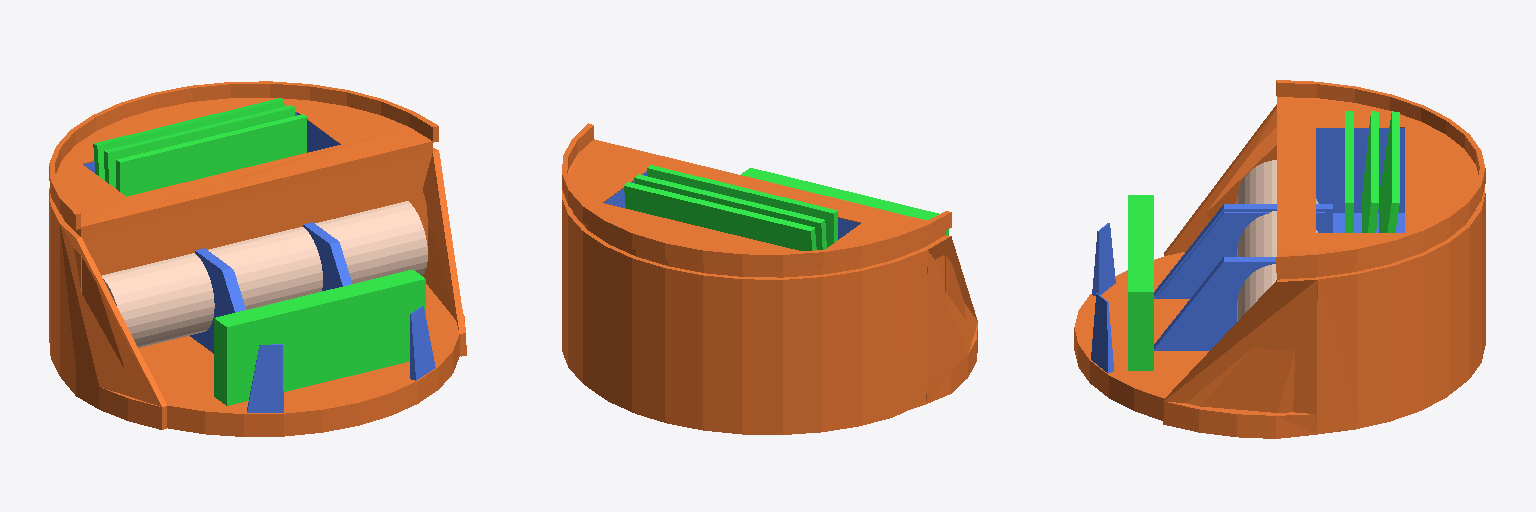
File: moneymachine_5.obj
3 views of the same model, side by side, from view 1: azimuth 30°, elevation 25°; view 2: azimuth 150°, elevation 25°; view 3: azimuth 270°, elevation 25° (orthographic).
Visible parts, largest first — view 1: Cylinder.019_Material.016, Cylinder.019_Material.002, Cylinder.019_Material.015, Cylinder.019_Material.001; view 2: Cylinder.019_Material.016, Cylinder.019_Material.002; view 3: Cylinder.019_Material.016, Cylinder.019_Material.001, Cylinder.019_Material.002, Cylinder.019_Material.015.
Part boxes in pixels (left/top/right/bottom): Cylinder.019_Material.016: left=49, top=81, right=466, bottom=436; Cylinder.019_Material.002: left=93, top=98, right=425, bottom=405; Cylinder.019_Material.015: left=102, top=201, right=427, bottom=347; Cylinder.019_Material.001: left=83, top=112, right=435, bottom=412; Cylinder.019_Material.016: left=562, top=123, right=977, bottom=434; Cylinder.019_Material.002: left=624, top=165, right=948, bottom=250; Cylinder.019_Material.016: left=1074, top=80, right=1485, bottom=438; Cylinder.019_Material.001: left=1091, top=128, right=1404, bottom=372; Cylinder.019_Material.002: left=1128, top=111, right=1399, bottom=370; Cylinder.019_Material.015: left=1237, top=160, right=1318, bottom=321.
Size of the model in its own units: 17.46 by 8.66 by 17.04.